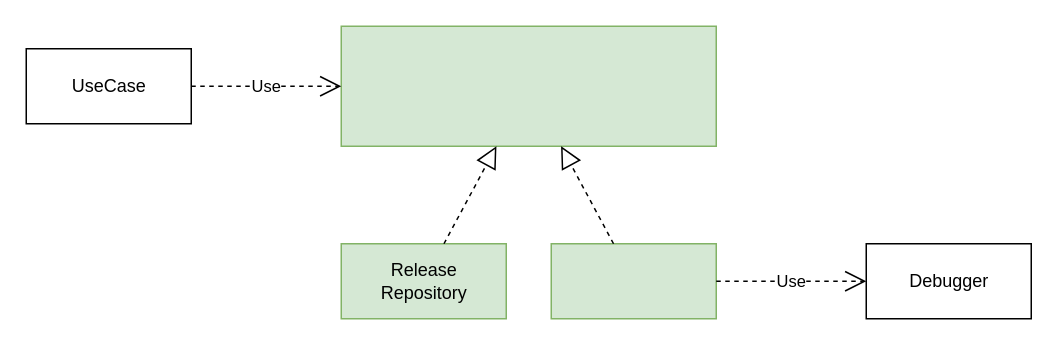
The diagram is 1058 pixels wide and 345 high, and some of its shapes have lost their labels. The centre of each missing label's shape, as x and y in pixels:
"<<Interface>> IRepository + Purchase(string productId): Response" belongs at (x=528, y=85).
"Debug Repository" belongs at (x=633, y=280).
